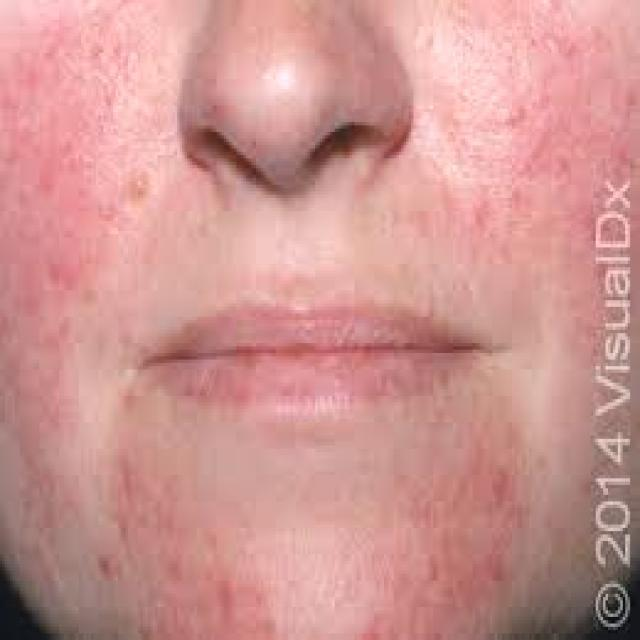Rosacea: (0, 7, 154, 412), (442, 17, 640, 257), (60, 453, 265, 640), (368, 429, 530, 640)
